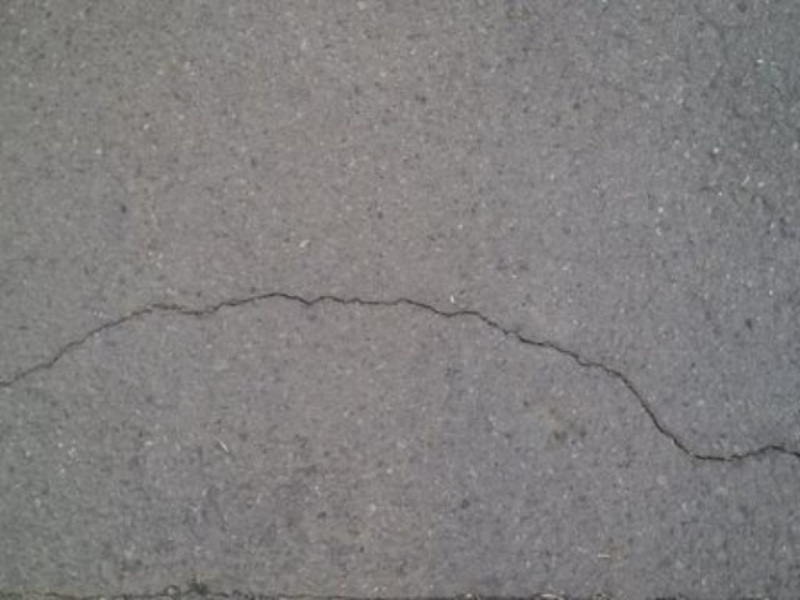crack: (7, 283, 794, 475)
